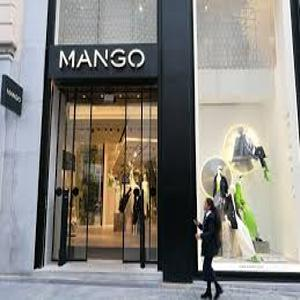mango: (55, 46, 148, 71)
